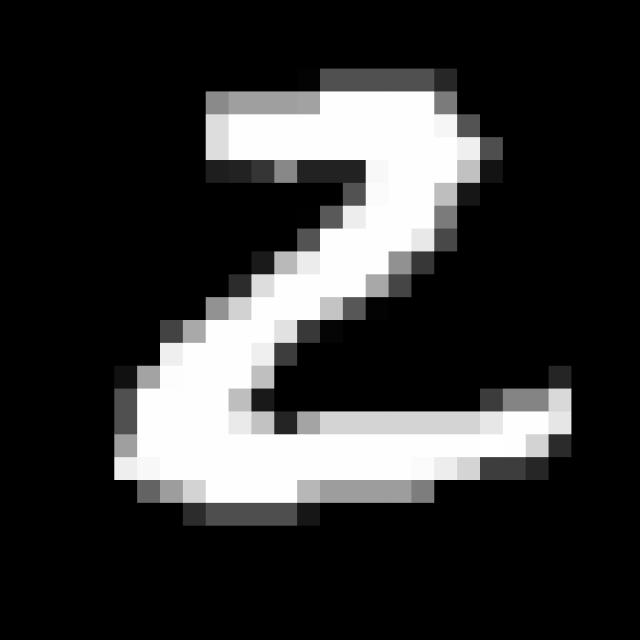two -2-: (75, 50, 589, 522)
